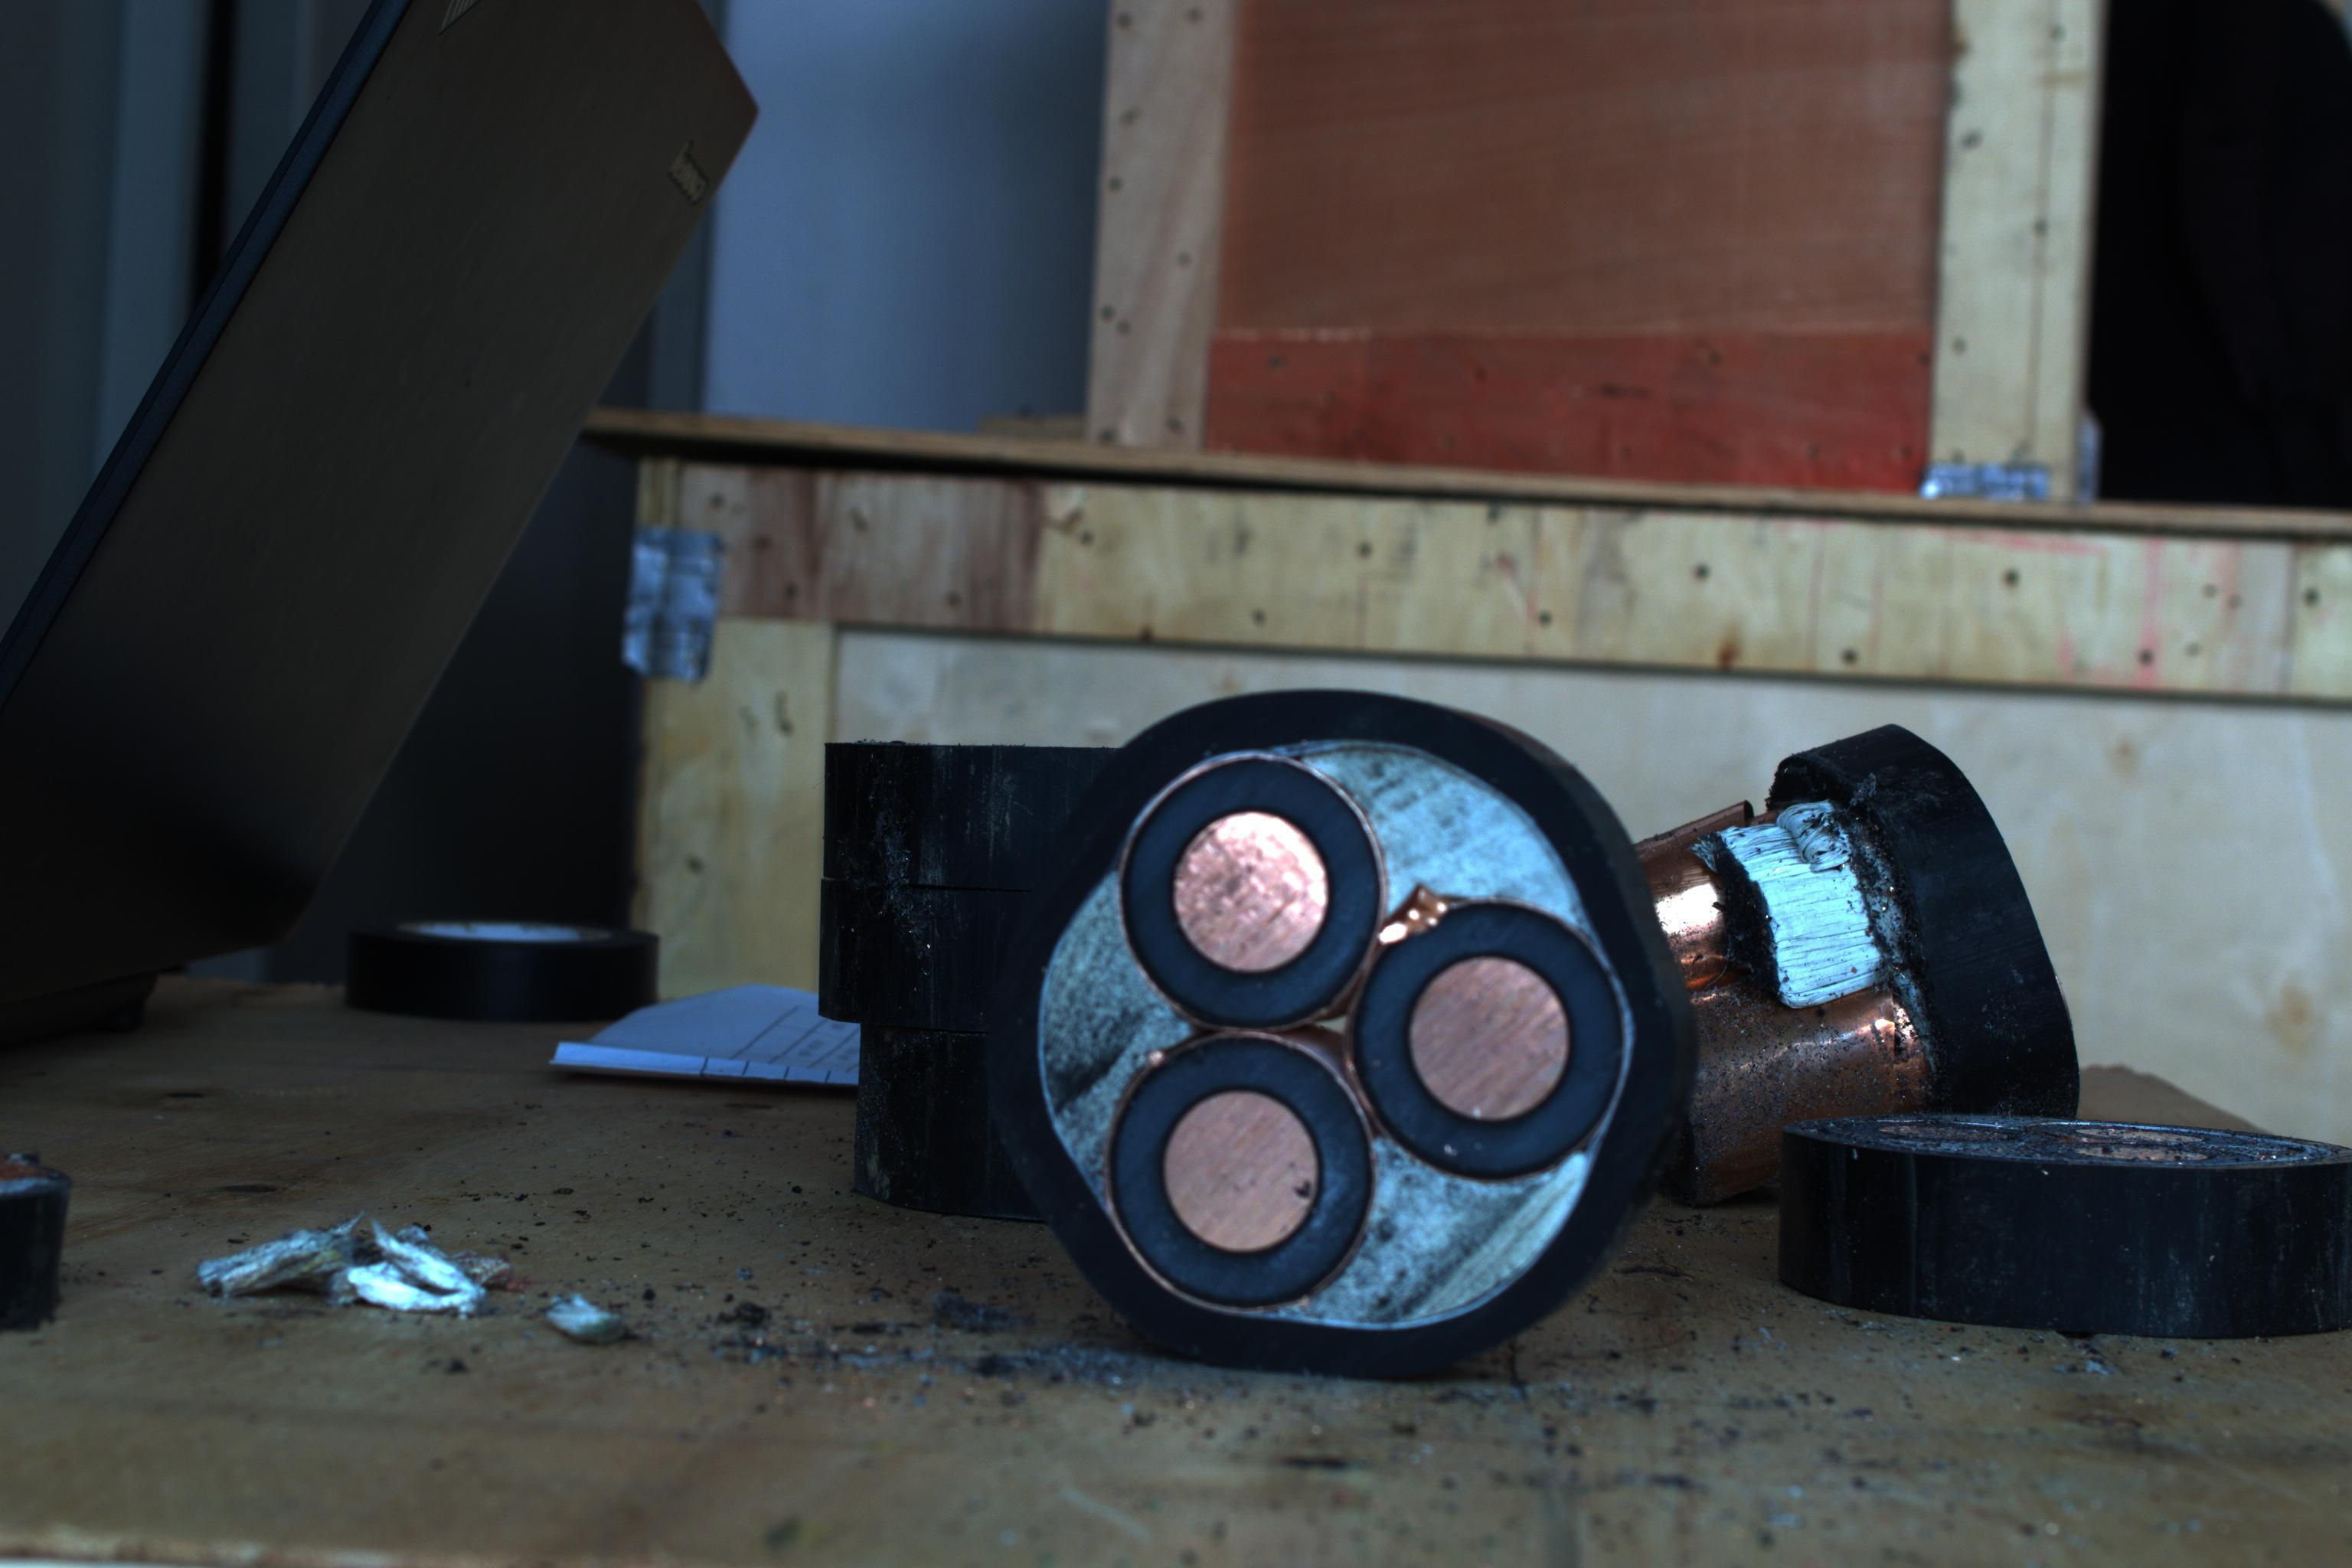ZA_YJV_8.7_10kV_3x240: (1017, 709, 1704, 1379)
